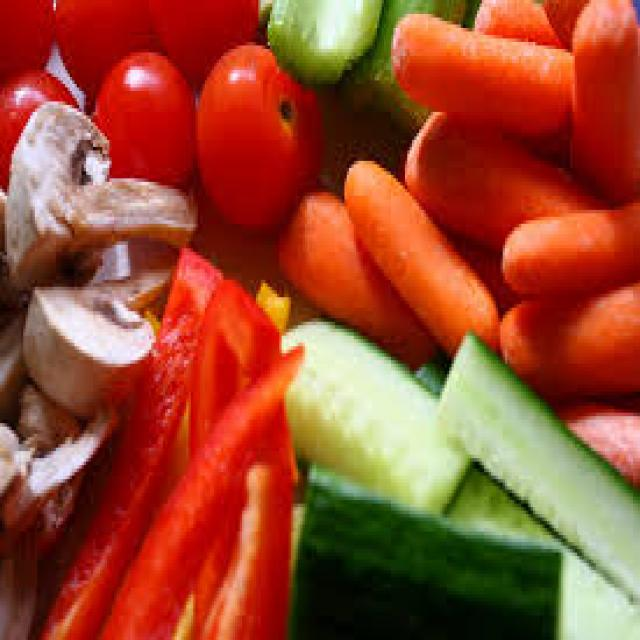organic waste: (0, 0, 638, 637), (40, 238, 224, 636), (435, 325, 638, 630), (98, 339, 302, 637), (289, 462, 556, 636), (275, 314, 470, 510), (186, 276, 291, 636), (4, 98, 190, 294), (444, 458, 638, 637), (340, 157, 498, 360), (398, 108, 593, 270), (277, 185, 433, 368), (191, 38, 319, 224), (389, 7, 570, 133), (21, 269, 174, 409), (0, 395, 116, 545), (496, 280, 638, 395), (86, 45, 196, 182), (342, 0, 463, 122), (568, 0, 638, 203), (498, 196, 638, 294), (7, 374, 81, 553), (142, 0, 260, 87), (263, 0, 381, 80), (544, 392, 638, 486), (49, 0, 151, 84), (0, 63, 74, 175), (0, 528, 44, 630), (472, 0, 558, 45), (0, 0, 49, 73), (0, 297, 26, 413), (537, 0, 588, 52), (409, 349, 446, 392), (0, 189, 5, 301)
